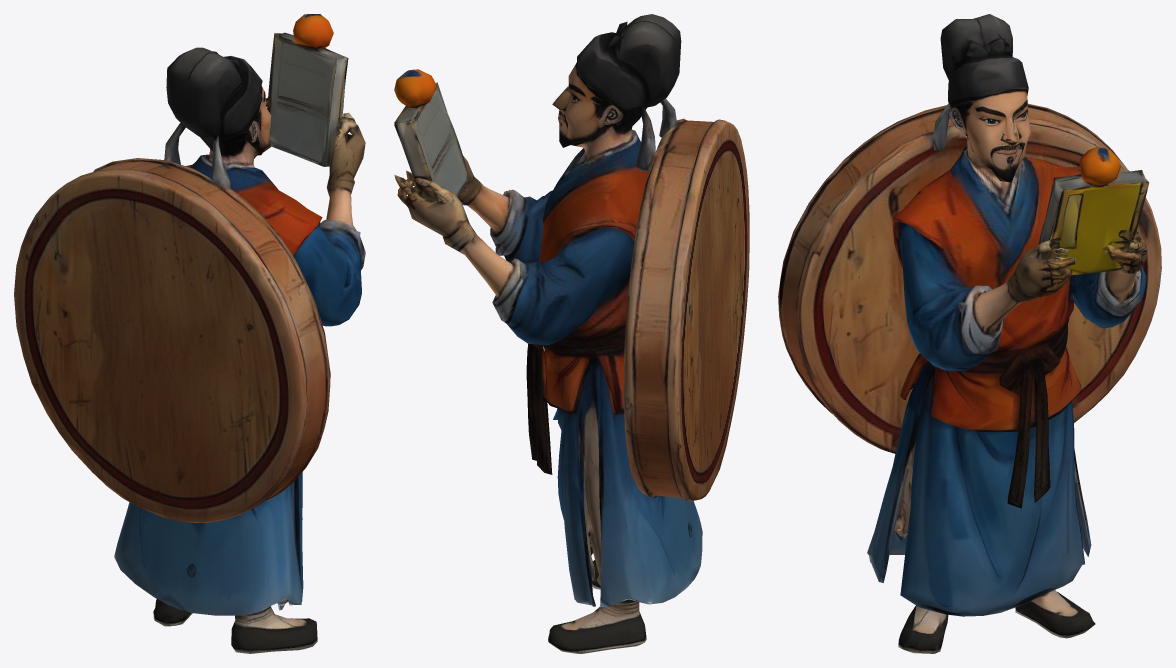
The model's file is p_b2p_zhujinzhen_adult.glb.
3 renders of one model, left to right at view 1: azimuth 30°, elevation 25°; view 2: azimuth 150°, elevation 25°; view 3: azimuth 270°, elevation 25°, orthographic. The views are drawn at different scales.
Parts seen in each view (by area): view 1: tripo_node_b45cd169-156c-4ef5-9581-c1b85a943471; view 2: tripo_node_b45cd169-156c-4ef5-9581-c1b85a943471; view 3: tripo_node_b45cd169-156c-4ef5-9581-c1b85a943471.
Part boxes in pixels (<box>): tripo_node_b45cd169-156c-4ef5-9581-c1b85a943471: <box>14,14,365,653</box>; tripo_node_b45cd169-156c-4ef5-9581-c1b85a943471: <box>394,14,749,653</box>; tripo_node_b45cd169-156c-4ef5-9581-c1b85a943471: <box>778,14,1161,653</box>.
Size of the model in its own units: 0.537 by 1 by 0.5797.
Materials: 1 (1 with a texture image).
